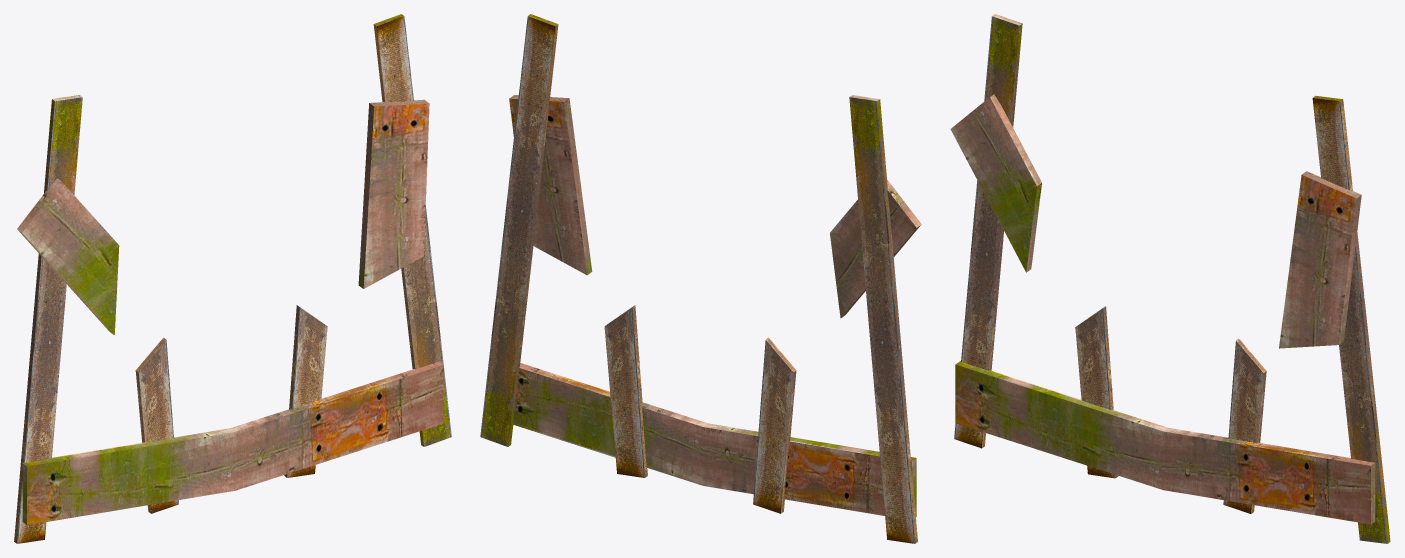
File: fence_05.fbx
The picture shows the model from 3 angles, left to right: view 1: azimuth 30°, elevation 25°; view 2: azimuth 150°, elevation 25°; view 3: azimuth 330°, elevation 25°; orthographic projection.
Parts seen in each view (by area): view 1: fence_05; view 2: fence_05; view 3: fence_05.
Boxes of the visible parts, x1=… form: fence_05: x1=14, y1=14, x2=451, y2=543; fence_05: x1=480, y1=14, x2=921, y2=543; fence_05: x1=950, y1=14, x2=1390, y2=543.
Size of the model in its own units: 3 by 2.88 by 0.1871.
